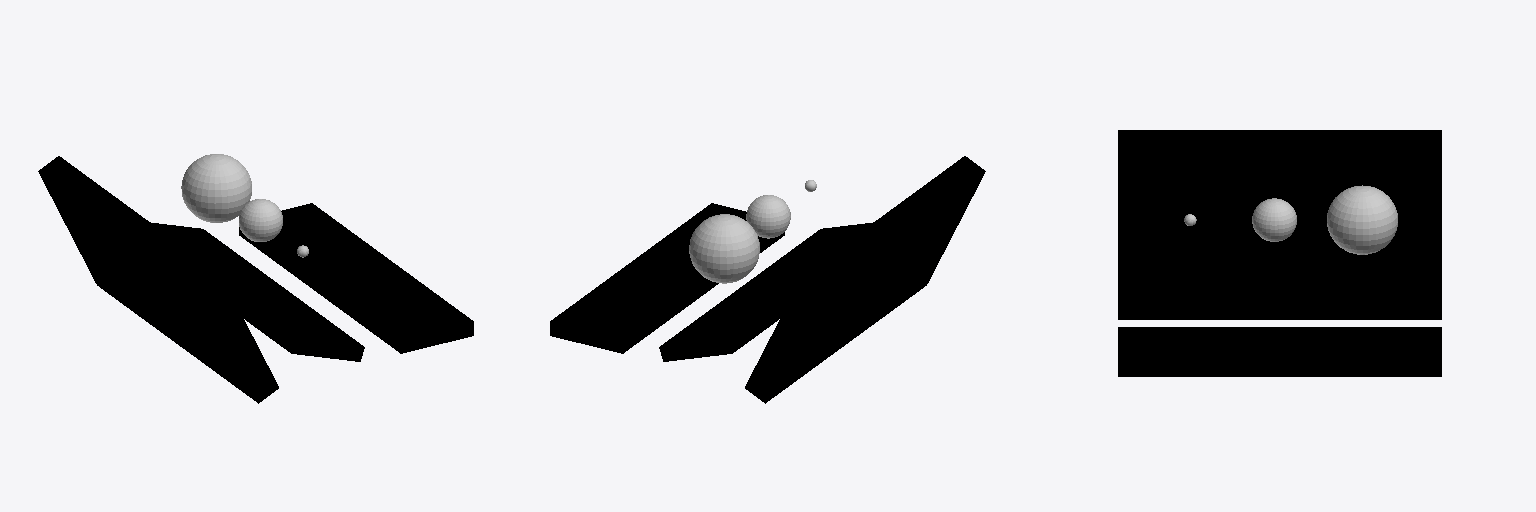
Rendered from misballs.obj.
3 renders of one model, left to right at view 1: azimuth 30°, elevation 25°; view 2: azimuth 150°, elevation 25°; view 3: azimuth 270°, elevation 25°, orthographic.
Parts seen in each view (by area): view 1: Cube.002, Cube, Cube.001, 球体.003, 球体.002; view 2: Cube.002, Cube, Cube.001, 球体.003, 球体.002; view 3: Cube.002, Cube.001, Cube, 球体.003, 球体.002.
Boxes of the visible parts, x1=… form: Cube.002: x1=38, y1=156, x2=278, y2=403; Cube: x1=239, y1=203, x2=473, y2=353; Cube.001: x1=150, y1=222, x2=364, y2=361; 球体.003: x1=181, y1=154, x2=251, y2=222; 球体.002: x1=239, y1=199, x2=282, y2=241; Cube.002: x1=745, y1=156, x2=985, y2=403; Cube: x1=550, y1=203, x2=784, y2=353; Cube.001: x1=659, y1=222, x2=873, y2=361; 球体.003: x1=689, y1=214, x2=759, y2=283; 球体.002: x1=746, y1=195, x2=790, y2=238; Cube.002: x1=1118, y1=130, x2=1441, y2=249; Cube.001: x1=1118, y1=250, x2=1441, y2=319; Cube: x1=1118, y1=327, x2=1441, y2=376; 球体.003: x1=1327, y1=185, x2=1397, y2=254; 球体.002: x1=1252, y1=198, x2=1296, y2=241.
Bounding box in the file's own units: 7.51 × 3.64 × 7.67.